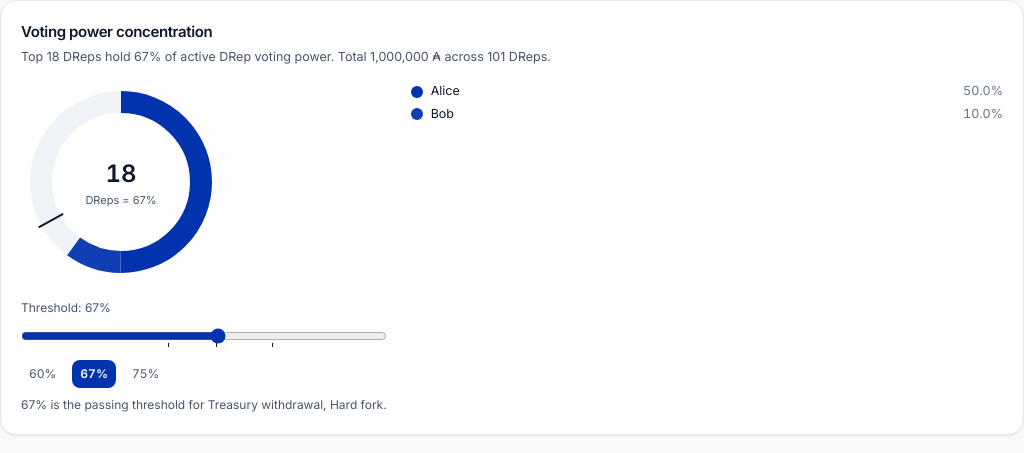
DrepConcentration › snaps to a threshold marker when the corresponding button is clicked
Click the button "75%". click: (146, 374)
box: [124, 360, 167, 388]
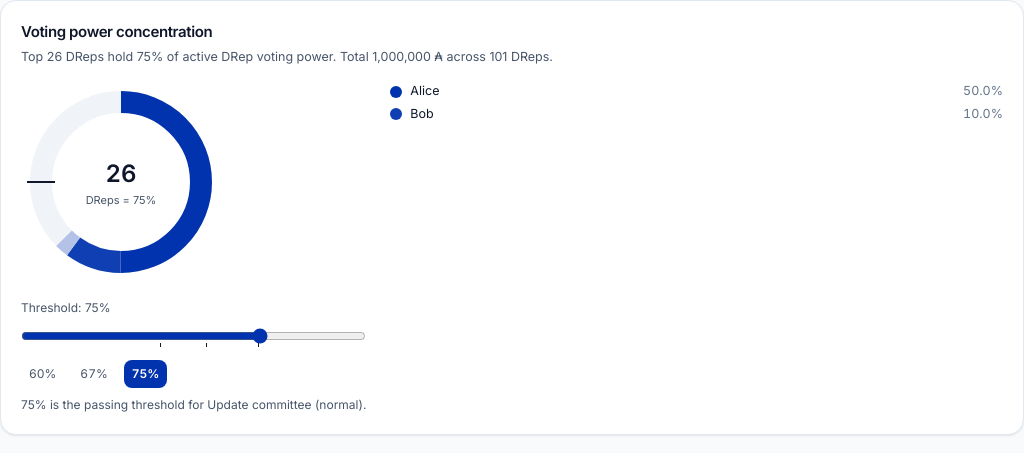
Check: the text "Top 26 DReps hold 75% of active DRep voting power" is shown, box [21, 48, 333, 64]
